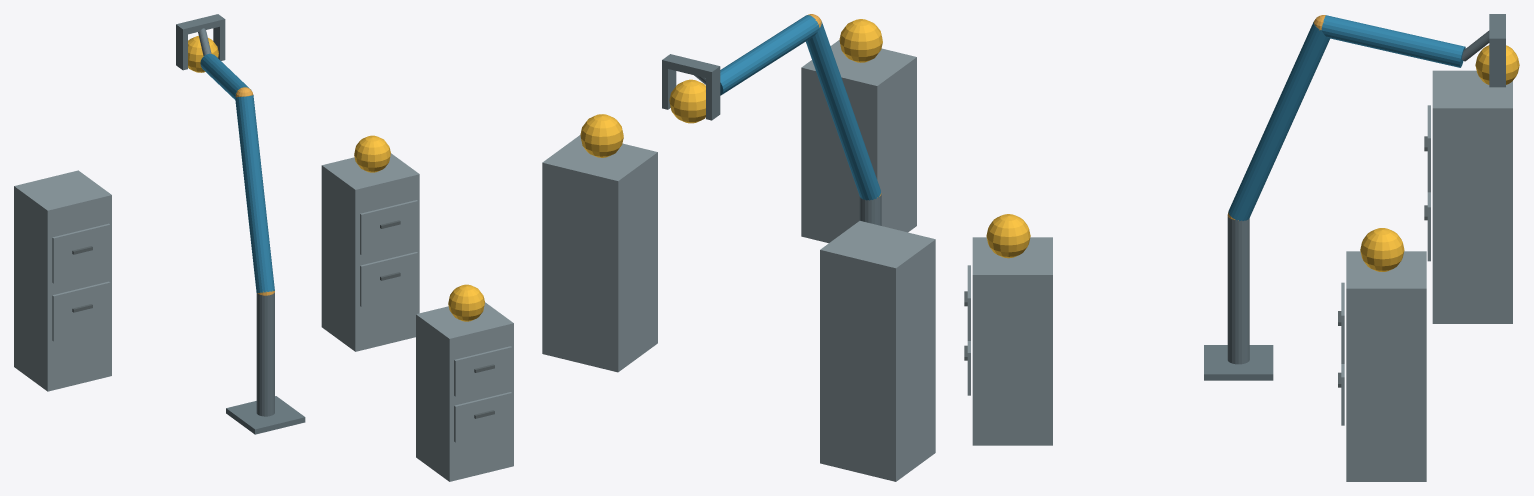
3 views of the same model, side by side, from view 1: azimuth 30°, elevation 25°; view 2: azimuth 150°, elevation 25°; view 3: azimuth 270°, elevation 25° (orthographic). The views are drawn at different scales.
Visible parts, largest first — view 1: cabinet_3 body, cabinet_2 body, cabinet_1 body, moving link 1, cabinet_3 drawer front.001, cabinet_3 drawer front, cabinet_2 drawer front, cabinet_2 drawer front.001, fixed post, cabinet_1 drawer front, cabinet_1 drawer front.001, pedestal (+5 smaller); view 2: cabinet_3 body, cabinet_2 body, cabinet_1 body, moving link 1, moving link 2, released ball_1, released ball_2, ball ball_3, gripper bridge, gripper finger -1, fixed post, gripper finger 1; view 3: cabinet_3 body, cabinet_2 body, cabinet_1 body, moving link 1, fixed post, moving link 2, pedestal, released ball_1, released ball_2, ball ball_3, gripper finger 1.
Part boxes in pixels (x1=…): cabinet_3 body: x1=14, y1=170, x2=111, y2=391; cabinet_2 body: x1=321, y1=153, x2=419, y2=351; cabinet_1 body: x1=416, y1=302, x2=513, y2=481; moving link 1: x1=235, y1=95, x2=274, y2=292; cabinet_3 drawer front.001: x1=52, y1=223, x2=110, y2=283; cabinet_3 drawer front: x1=52, y1=281, x2=110, y2=341; cabinet_2 drawer front: x1=360, y1=252, x2=417, y2=306; cabinet_2 drawer front.001: x1=360, y1=200, x2=417, y2=255; fixed post: x1=256, y1=292, x2=274, y2=416; cabinet_1 drawer front: x1=454, y1=392, x2=511, y2=442; cabinet_1 drawer front.001: x1=454, y1=346, x2=511, y2=396; pedestal: x1=226, y1=396, x2=305, y2=434; cabinet_3 body: x1=820, y1=221, x2=935, y2=481; cabinet_2 body: x1=542, y1=135, x2=657, y2=372; cabinet_1 body: x1=801, y1=40, x2=916, y2=243; moving link 1: x1=806, y1=21, x2=880, y2=200; moving link 2: x1=720, y1=15, x2=819, y2=95; released ball_1: x1=839, y1=19, x2=882, y2=62; released ball_2: x1=580, y1=114, x2=623, y2=157; ball ball_3: x1=669, y1=79, x2=705, y2=123; gripper bridge: x1=662, y1=54, x2=720, y2=79; gripper finger -1: x1=706, y1=74, x2=720, y2=120; fixed post: x1=859, y1=194, x2=881, y2=225; gripper finger 1: x1=662, y1=67, x2=676, y2=109; cabinet_3 body: x1=1432, y1=70, x2=1512, y2=323; cabinet_2 body: x1=1346, y1=251, x2=1426, y2=481; cabinet_1 body: x1=972, y1=237, x2=1052, y2=445; moving link 1: x1=1228, y1=22, x2=1329, y2=221; fixed post: x1=1227, y1=216, x2=1249, y2=364; moving link 2: x1=1321, y1=15, x2=1465, y2=67; pedestal: x1=1204, y1=345, x2=1273, y2=380; released ball_1: x1=986, y1=214, x2=1030, y2=258; released ball_2: x1=1360, y1=228, x2=1404, y2=271; ball ball_3: x1=1475, y1=45, x2=1519, y2=84; gripper finger 1: x1=1489, y1=46, x2=1505, y2=87.
Size of the model in its own units: 1.67 by 1.46 by 2.01.
